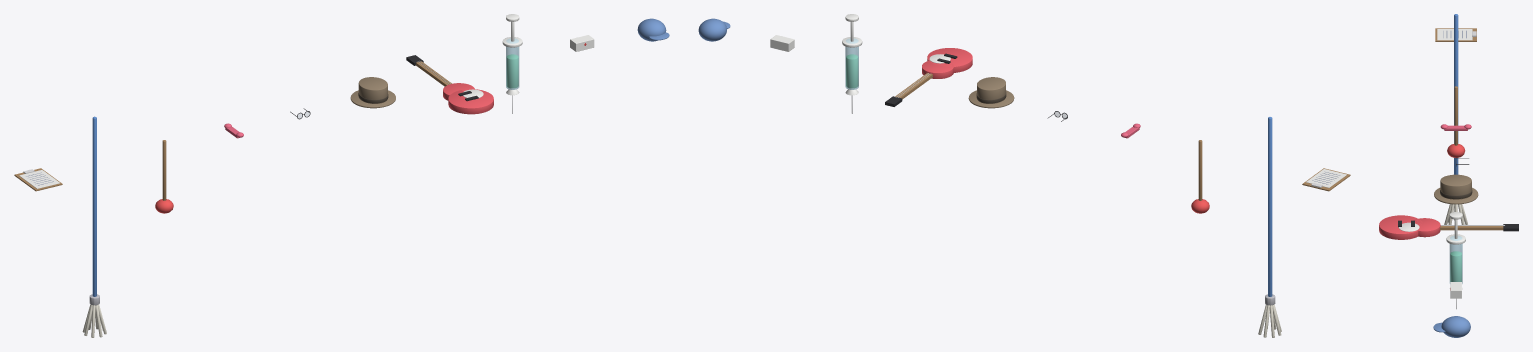
The model's file is props.glb.
3 renders of one model, left to right at view 1: azimuth 30°, elevation 25°; view 2: azimuth 150°, elevation 25°; view 3: azimuth 270°, elevation 25°, orthographic. The views are drawn at different scales.
Parts seen in each view (by area): view 1: guitar, mop, hat, syringe, clipboard, orderly_cap, plunger; view 2: guitar, mop, hat, syringe, clipboard, orderly_cap, plunger; view 3: guitar, hat, syringe, mop, orderly_cap, clipboard, plunger, nurse_cap, phone.
Part boxes in pixels (<box>): guitar: <box>406,55,493,114</box>; mop: <box>82,116,106,337</box>; hat: <box>350,77,395,108</box>; syringe: <box>502,14,522,113</box>; clipboard: <box>14,168,62,191</box>; orderly_cap: <box>637,18,669,41</box>; plunger: <box>155,140,173,213</box>; guitar: <box>885,48,972,106</box>; mop: <box>1258,117,1281,337</box>; hat: <box>968,77,1014,108</box>; syringe: <box>842,14,862,113</box>; clipboard: <box>1302,168,1350,191</box>; orderly_cap: <box>698,18,730,41</box>; plunger: <box>1191,140,1209,213</box>; guitar: <box>1379,215,1518,239</box>; hat: <box>1434,174,1478,204</box>; syringe: <box>1446,212,1465,309</box>; mop: <box>1444,14,1467,224</box>; orderly_cap: <box>1433,316,1470,337</box>; clipboard: <box>1435,28,1476,41</box>; plunger: <box>1447,86,1465,157</box>; nurse_cap: <box>1450,282,1461,298</box>; phone: <box>1440,124,1471,130</box>.
Bounding box in the file's own units: 5.51 × 1.78 × 1.07.
